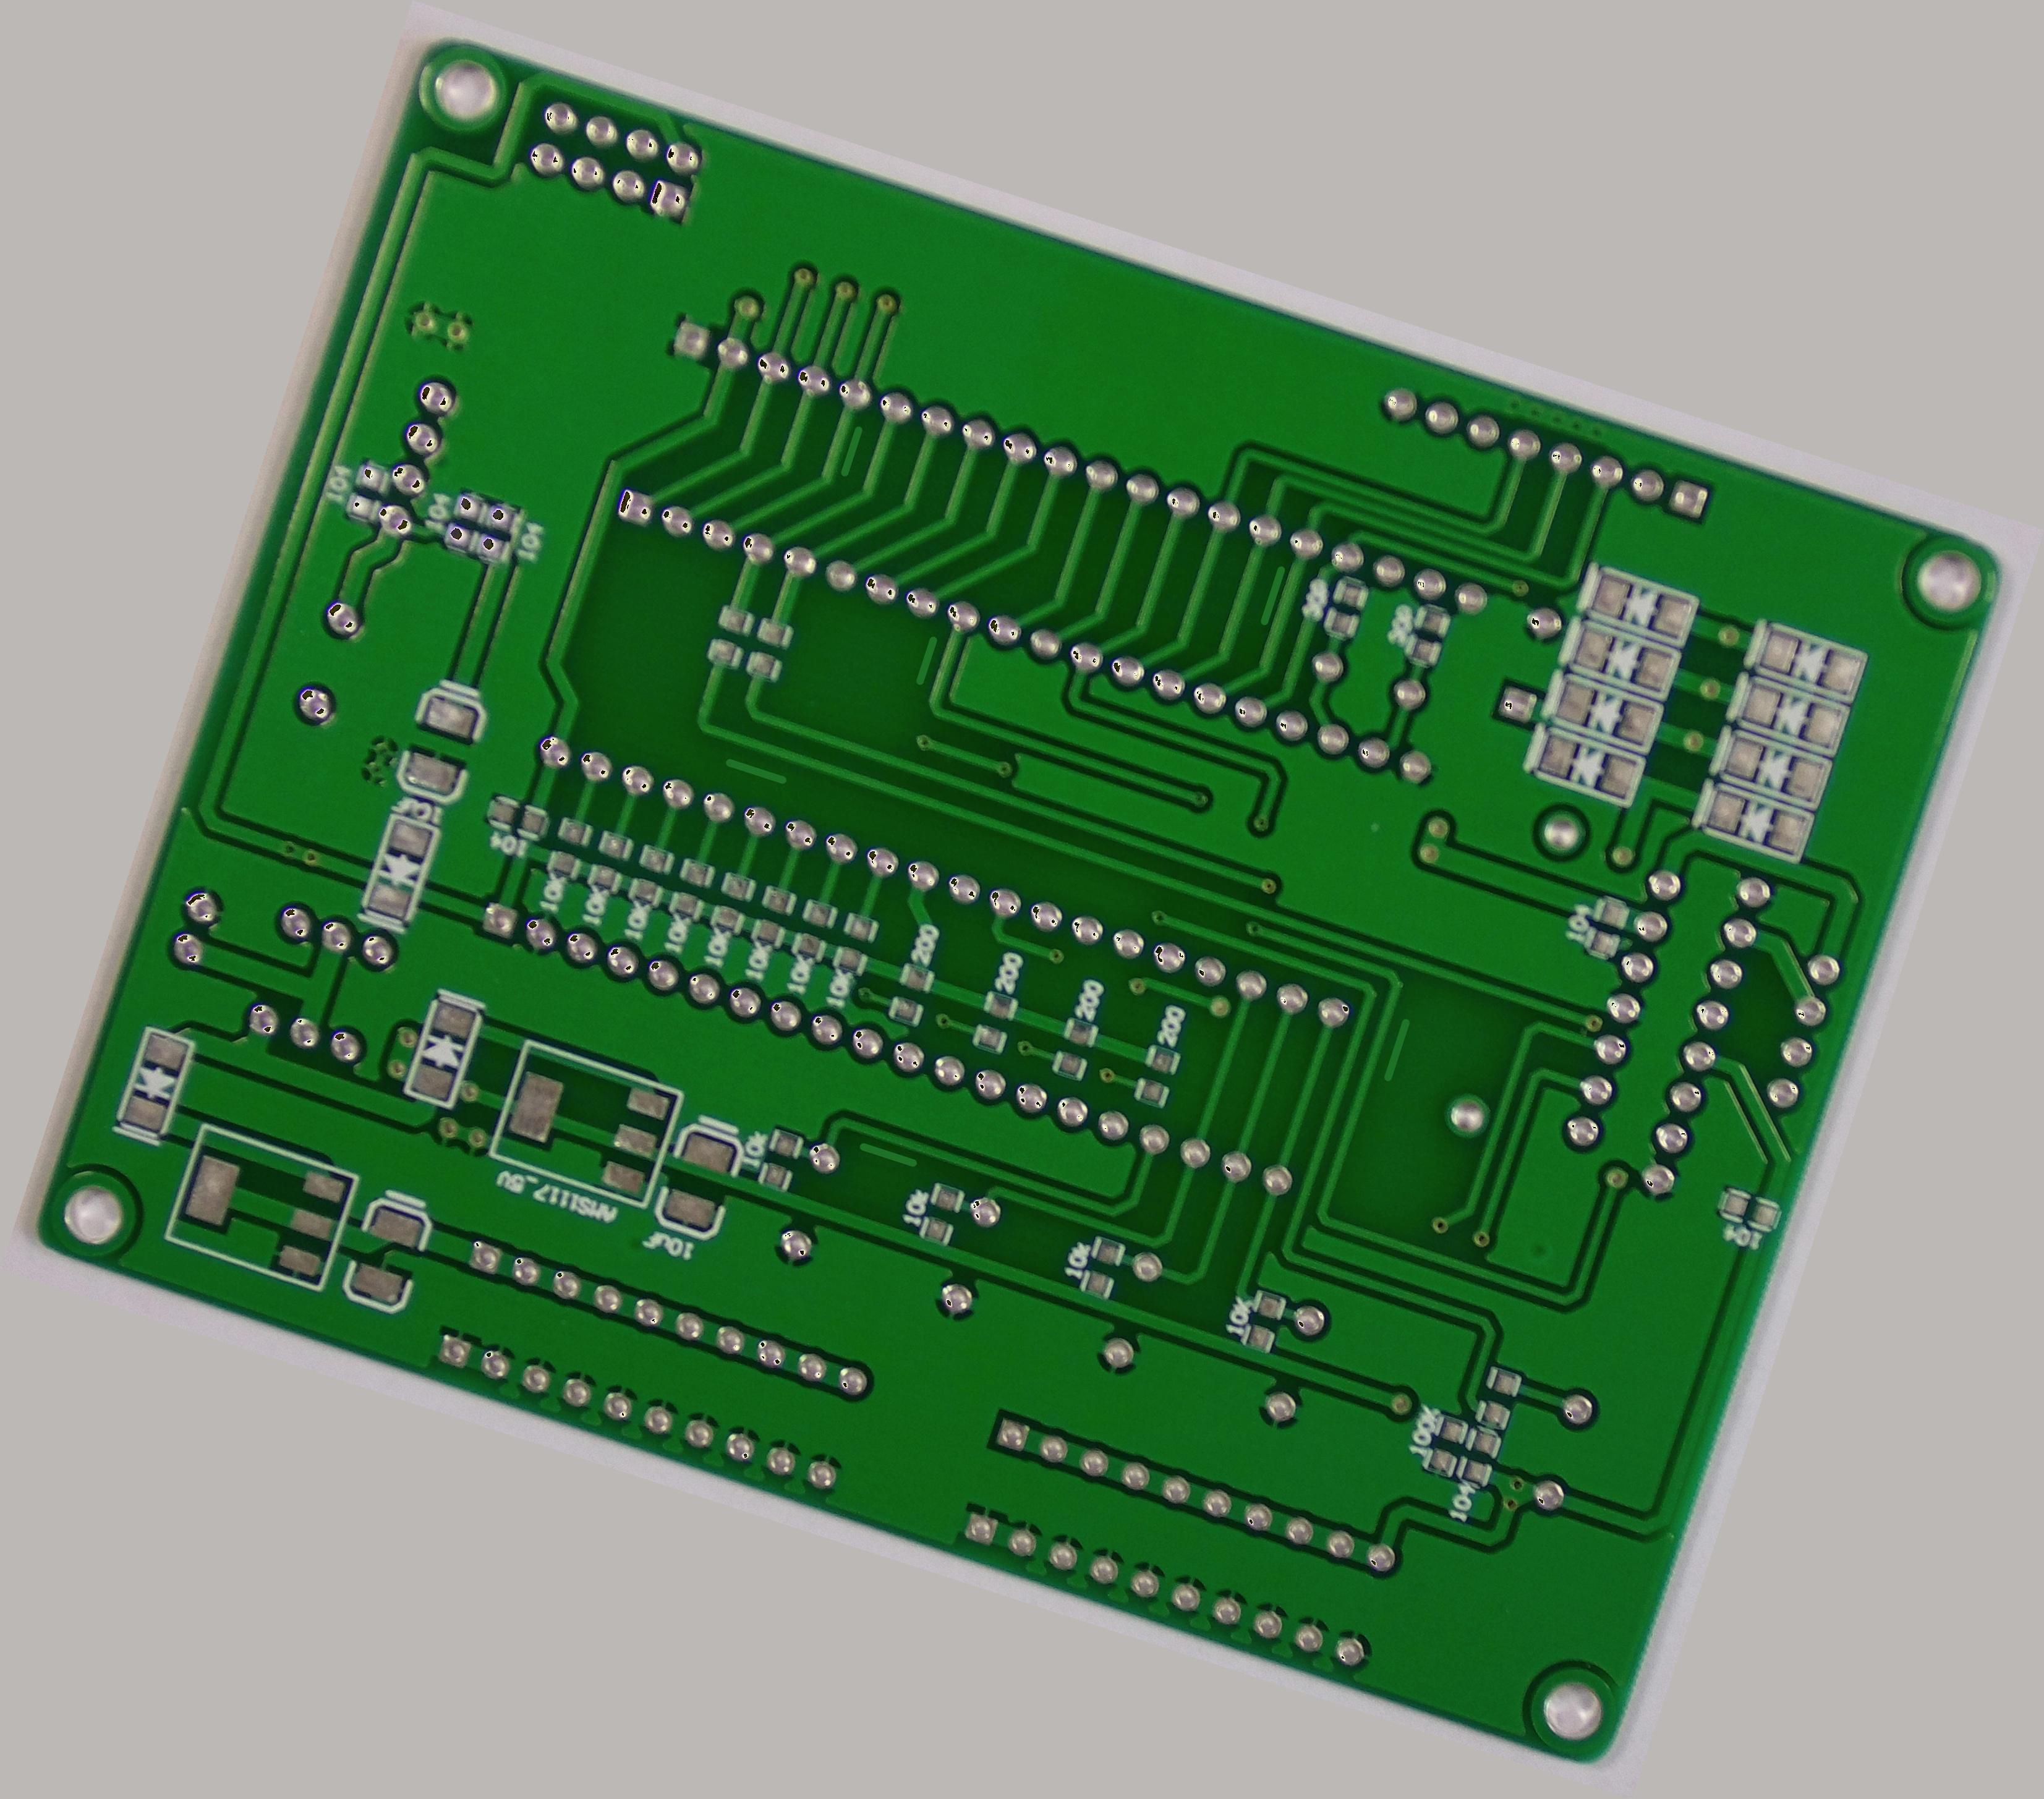spurious_copper: (713, 739, 796, 800), (848, 1126, 926, 1180), (1371, 1008, 1422, 1090), (1248, 554, 1298, 631), (900, 621, 951, 694), (827, 415, 876, 487)
